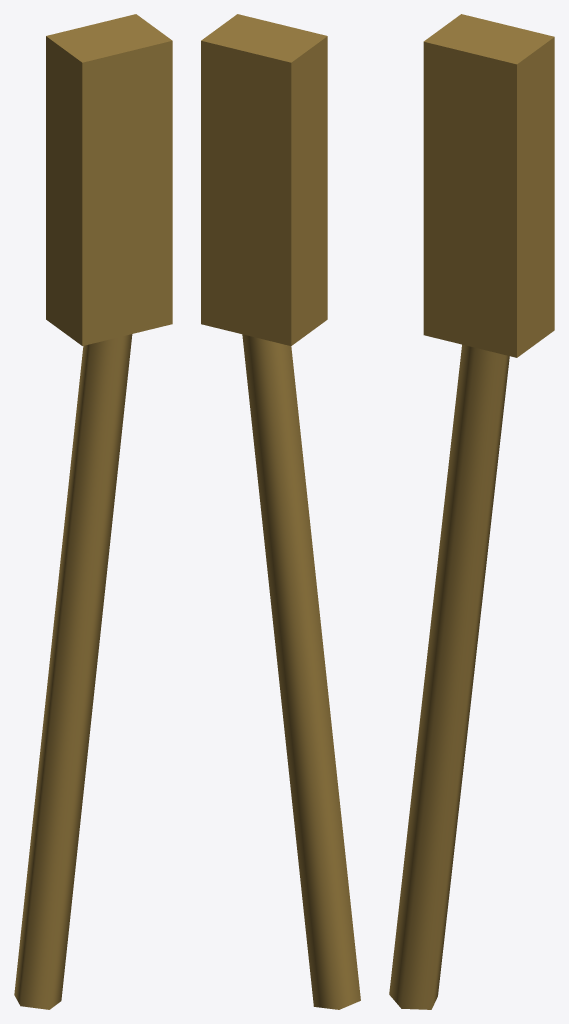
Rendered from custom-nature-wheat.glb.
The picture shows the model from 3 angles, left to right: view 1: azimuth 30°, elevation 25°; view 2: azimuth 150°, elevation 25°; view 3: azimuth 330°, elevation 25°; orthographic projection. The views are drawn at different scales.
Parts seen in each view (by area): view 1: custom-nature-wheat; view 2: custom-nature-wheat; view 3: custom-nature-wheat.
Boxes of the visible parts, x1,y1,x2,y2 form: custom-nature-wheat: (14, 14, 172, 1009); custom-nature-wheat: (201, 14, 360, 1009); custom-nature-wheat: (389, 14, 554, 1009).
Size of the model in its own units: 1 by 6.57 by 0.4585.
